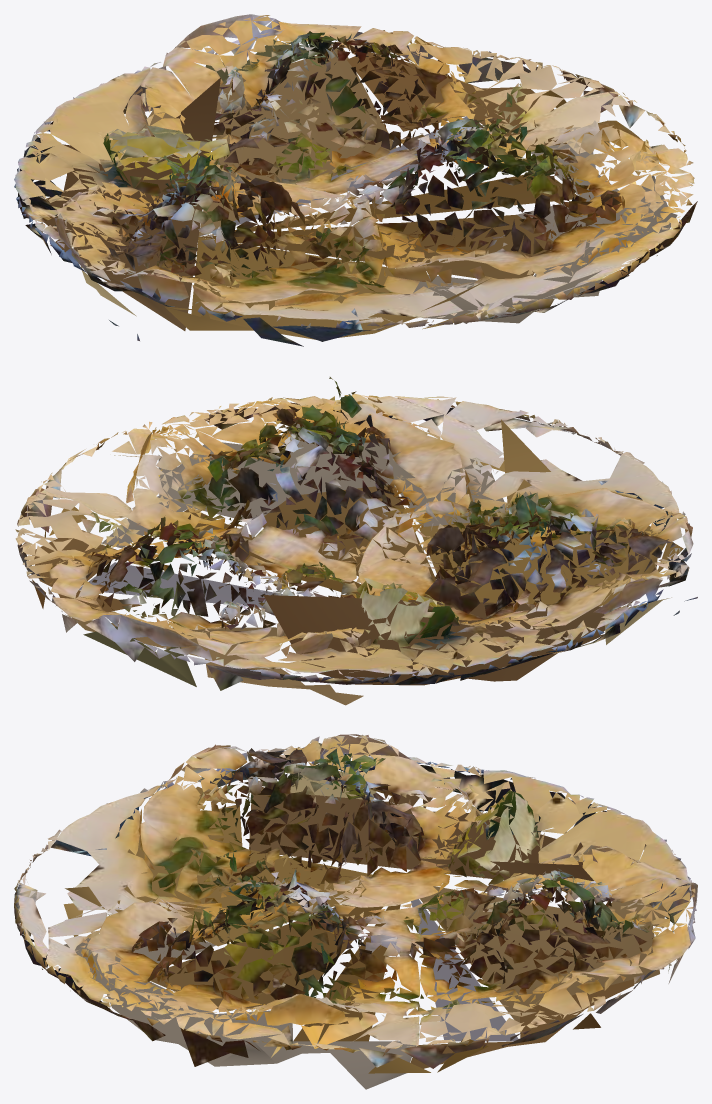
The model's file is mole.glb.
3 renders of one model, top to bottom at view 1: azimuth 30°, elevation 25°; view 2: azimuth 150°, elevation 25°; view 3: azimuth 270°, elevation 25°, orthographic.
Visible parts, largest first — view 1: model_tex_u1_v1_0; view 2: model_tex_u1_v1_0; view 3: model_tex_u1_v1_0.
Boxes of the visible parts, box(x1,y1,x2,y2) form: model_tex_u1_v1_0: box(14, 14, 697, 346); model_tex_u1_v1_0: box(15, 377, 697, 705); model_tex_u1_v1_0: box(14, 734, 697, 1089).
Bounding box in the file's own units: 0.273 × 0.0699 × 0.27.
Materials: 1 (1 with a texture image).
